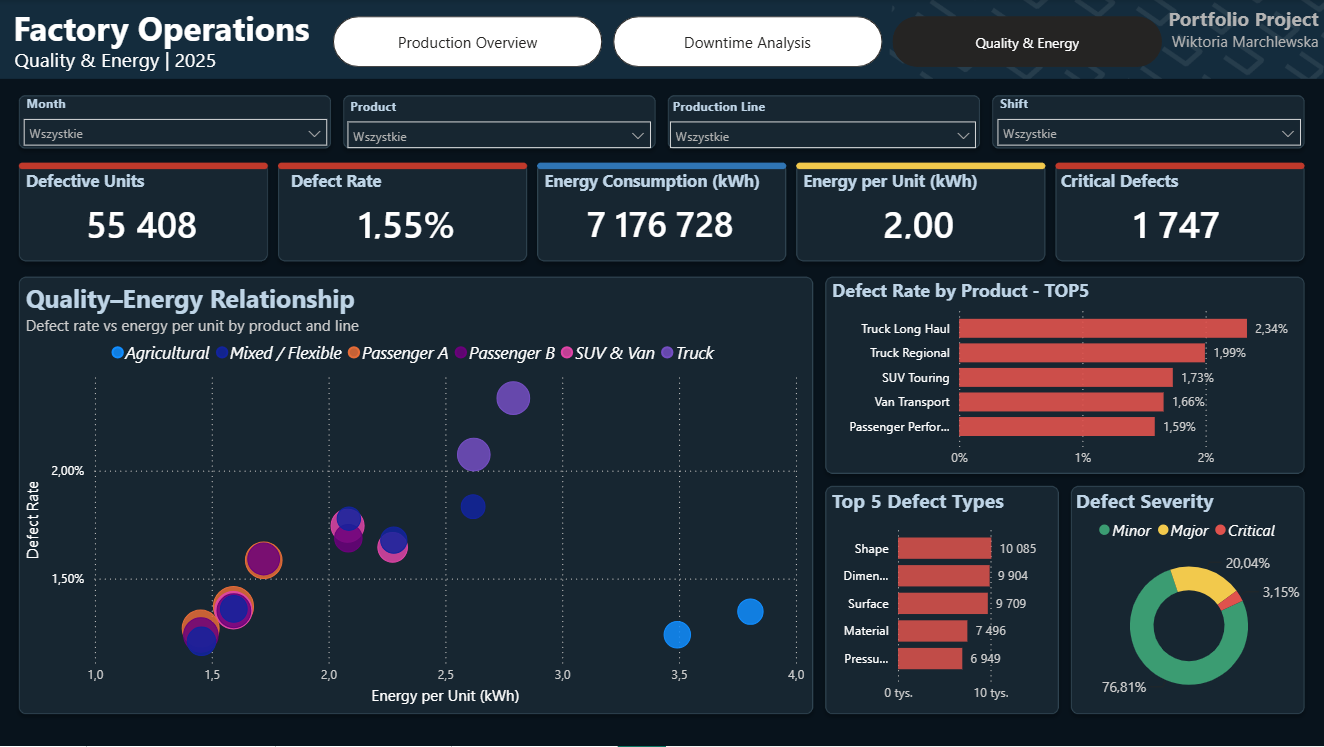

The page's visual inventory and layout, read from the dashboard file:
{"tool":"powerbi","page":{"name":"Quality & Energy","canvas":[1280,720],"ordinal":3},"visuals":[{"type":"textbox","box":[10,0,314.3,55.7],"z":0},{"type":"textbox","box":[11,40,257.1,44.3],"z":1000},{"type":"textbox","box":[1080,0,200,62.9],"z":2000},{"type":"slicer","fields":{"Values":["dim_date.month_name"]},"box":[14,87,313,58],"z":3000},{"type":"slicer","fields":{"Values":["dim_product.product_name"]},"box":[326.6,89.2,312.9,54.9],"z":4000},{"type":"slicer","fields":{"Values":["dim_line.line_name"]},"box":[638.1,89.2,315.6,57.6],"z":5000},{"type":"slicer","fields":{"Values":["dim_shift.shift_name"]},"box":[954,87,312.9,57.1],"z":6000},{"type":"cardVisual","title":"Defective Units","fields":{"Data":["_Measures.Defective Units"]},"box":[22,163,234,85],"z":7000},{"type":"cardVisual","title":"Critical Defects","fields":{"Data":["_Measures.Critical Defects"]},"box":[1020.9,163.3,234.6,85.1],"z":8000},{"type":"cardVisual","title":"Energy per Unit (kWh)","fields":{"Data":["_Measures.Energy per Unit kWh"]},"box":[772.6,163.3,233.3,85.1],"z":9000},{"type":"cardVisual","title":"Energy Consumption (kWh)","fields":{"Data":["_Measures.Energy Consumption kWh"]},"box":[522.8,163.3,233.3,85.1],"z":10000},{"type":"cardVisual","title":"Defect Rate","fields":{"Data":["_Measures.Defect Rate %"]},"box":[277.2,163.3,234.6,85.1],"z":11000},{"type":"scatterChart","title":"Quality–Energy Relationship","fields":{"X":["_Measures.Energy per Unit kWh"],"Y":["_Measures.Defect Rate %"],"Series":["dim_line.line_name"],"Size":["_Measures.Produced Units"],"Category":["dim_product.product_name"]},"box":[22,271.7,761.6,414.4],"z":12000},{"type":"clusteredBarChart","title":"Defect Rate by Product - TOP5","fields":{"Category":["dim_product.product_name"],"Y":["_Measures.Defect Rate %"]},"box":[800,267.6,459.7,192.1],"z":13000},{"type":"clusteredBarChart","title":"Top 5 Defect Types","fields":{"Category":["fact_defect.defect_type"],"Y":["_Measures.Defective Units"]},"box":[800,471,225,216],"z":14000},{"type":"donutChart","title":"Defect Severity","fields":{"Category":["fact_defect.severity"],"Y":["_Measures.Defective Units"]},"box":[1035,470.7,229.2,216.8],"z":15000},{"type":"pageNavigator","box":[323.8,15.1,800,49.4],"z":16000}]}

Visuals, with their boxes in screenshot pixels (x1, y1, x2, y2), scaled from the page's 1280x720 canvas onto the 1324x747 screenshot:
textbox: l=10, t=0, r=335, b=58
textbox: l=11, t=42, r=277, b=87
textbox: l=1117, t=0, r=1323, b=65
slicer - dim_date.month_name: l=14, t=90, r=338, b=150
slicer - dim_product.product_name: l=338, t=93, r=661, b=150
slicer - dim_line.line_name: l=660, t=93, r=986, b=152
slicer - dim_shift.shift_name: l=987, t=90, r=1310, b=150
"Defective Units" cardVisual: l=23, t=169, r=265, b=257
"Critical Defects" cardVisual: l=1056, t=169, r=1299, b=258
"Energy per Unit (kWh)" cardVisual: l=799, t=169, r=1040, b=258
"Energy Consumption (kWh)" cardVisual: l=541, t=169, r=782, b=258
"Defect Rate" cardVisual: l=287, t=169, r=529, b=258
"Quality–Energy Relationship" scatterChart: l=23, t=282, r=811, b=712
"Defect Rate by Product - TOP5" clusteredBarChart: l=828, t=278, r=1303, b=477
"Top 5 Defect Types" clusteredBarChart: l=828, t=489, r=1060, b=713
"Defect Severity" donutChart: l=1071, t=488, r=1308, b=713
pageNavigator: l=335, t=16, r=1162, b=67
